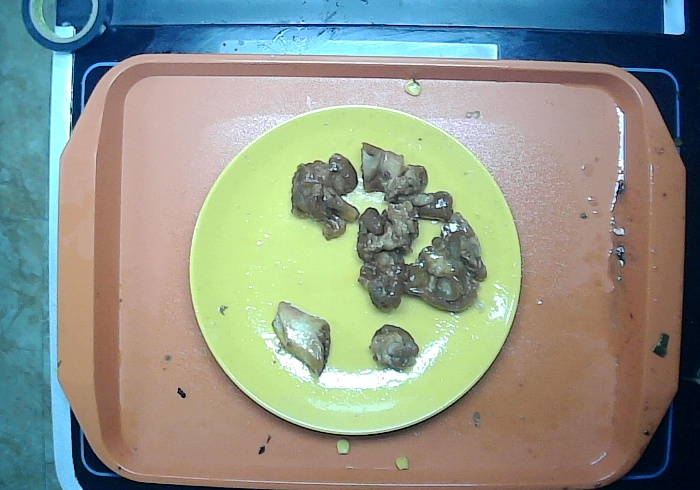HZYJPL-Huang_Se_Yuan_Pan: (187, 102, 524, 437)
